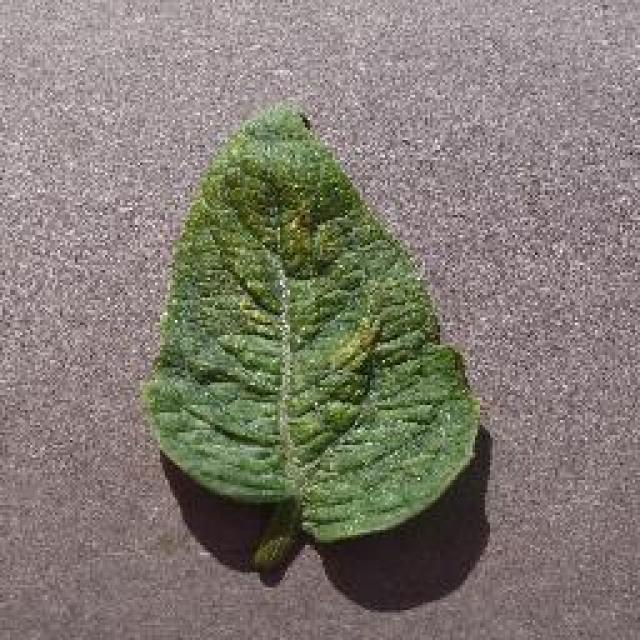Tom_Spider_mites Two-spotted_spider_mite: (194, 179, 396, 459)
